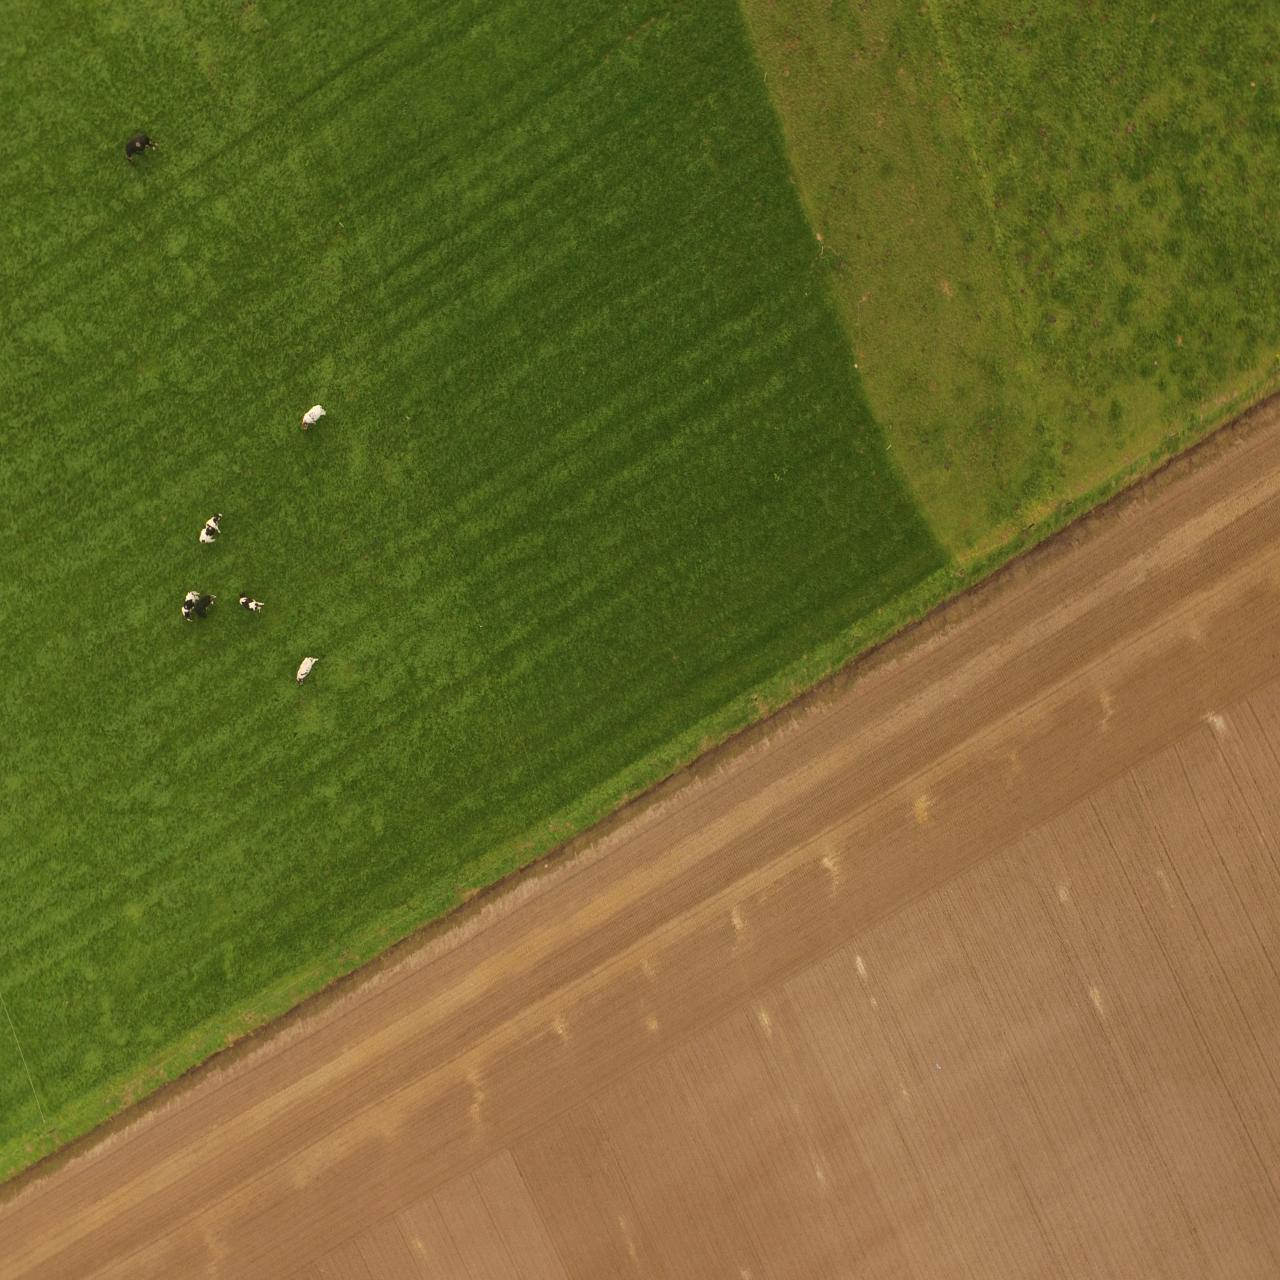cow: (122, 127, 161, 166), (197, 510, 223, 546), (292, 654, 319, 686), (236, 591, 267, 612), (299, 406, 327, 429), (182, 584, 196, 625), (198, 591, 215, 619)
